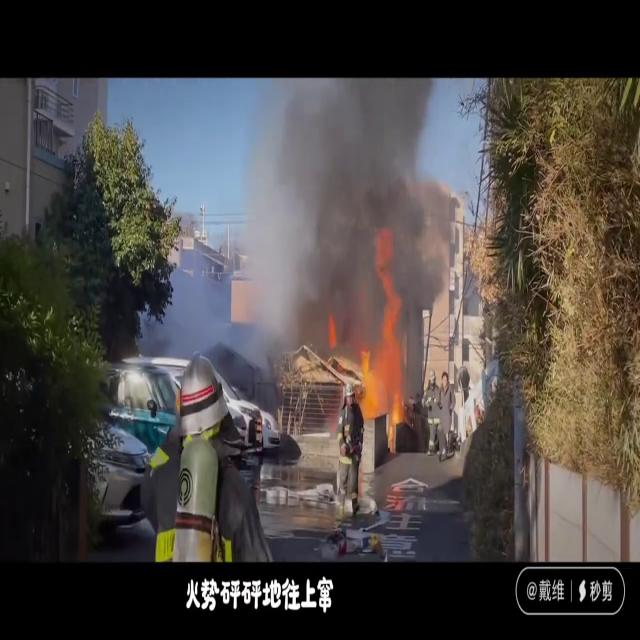Fire: (358, 271, 410, 440)
Smoke: (226, 79, 452, 339)
